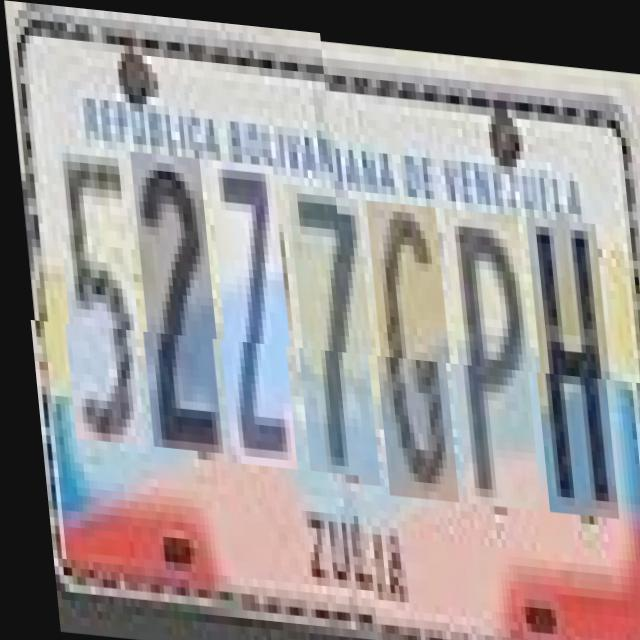2: (128, 158, 220, 458)
5: (50, 151, 142, 452)
7: (285, 186, 376, 479)
G: (363, 193, 454, 494)
H: (523, 206, 614, 507)
P: (441, 200, 536, 500)
Z: (205, 164, 294, 472)
